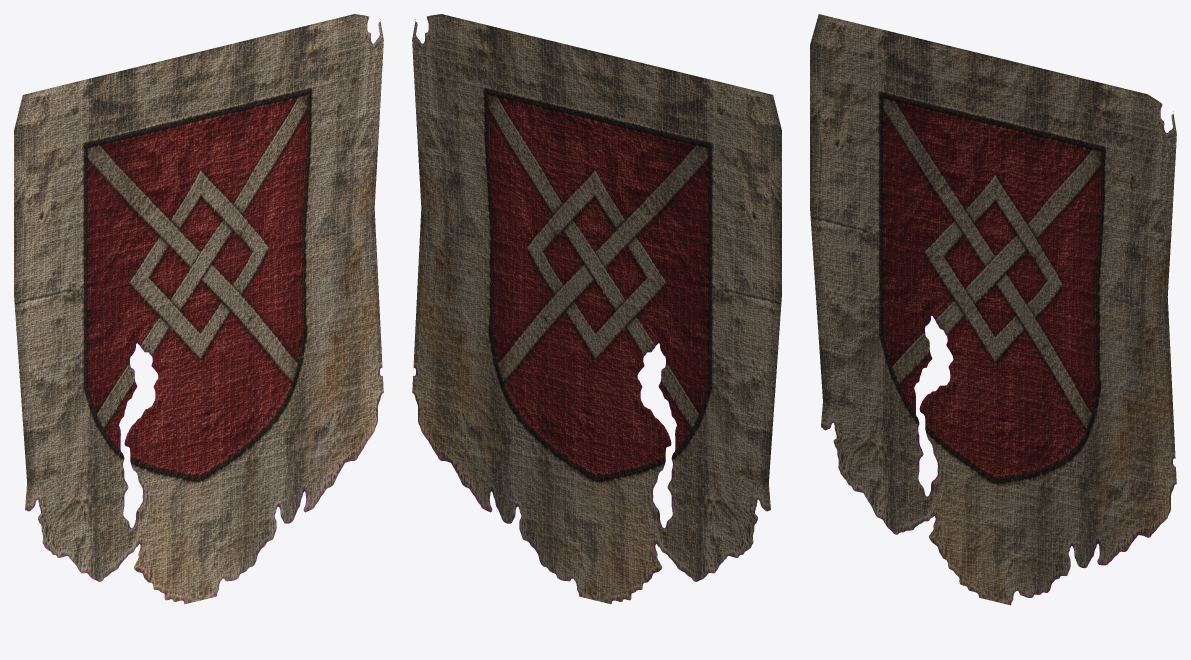
File: mm9_deco_tapestry_bannergeo3.glb
3 views of the same model, side by side, from view 1: azimuth 30°, elevation 25°; view 2: azimuth 150°, elevation 25°; view 3: azimuth 330°, elevation 25° (orthographic).
Visible parts, largest first — view 1: Tapestry_bannergeo3; view 2: Tapestry_bannergeo3; view 3: Tapestry_bannergeo3.
Part boxes in pixels (x1=…): Tapestry_bannergeo3: x1=14, y1=14, x2=383, y2=604; Tapestry_bannergeo3: x1=412, y1=14, x2=781, y2=604; Tapestry_bannergeo3: x1=810, y1=14, x2=1176, y2=605.
Bounding box in the file's own units: 1.63 × 2.31 × 2.59e-07.
1 material, 1 textured.
